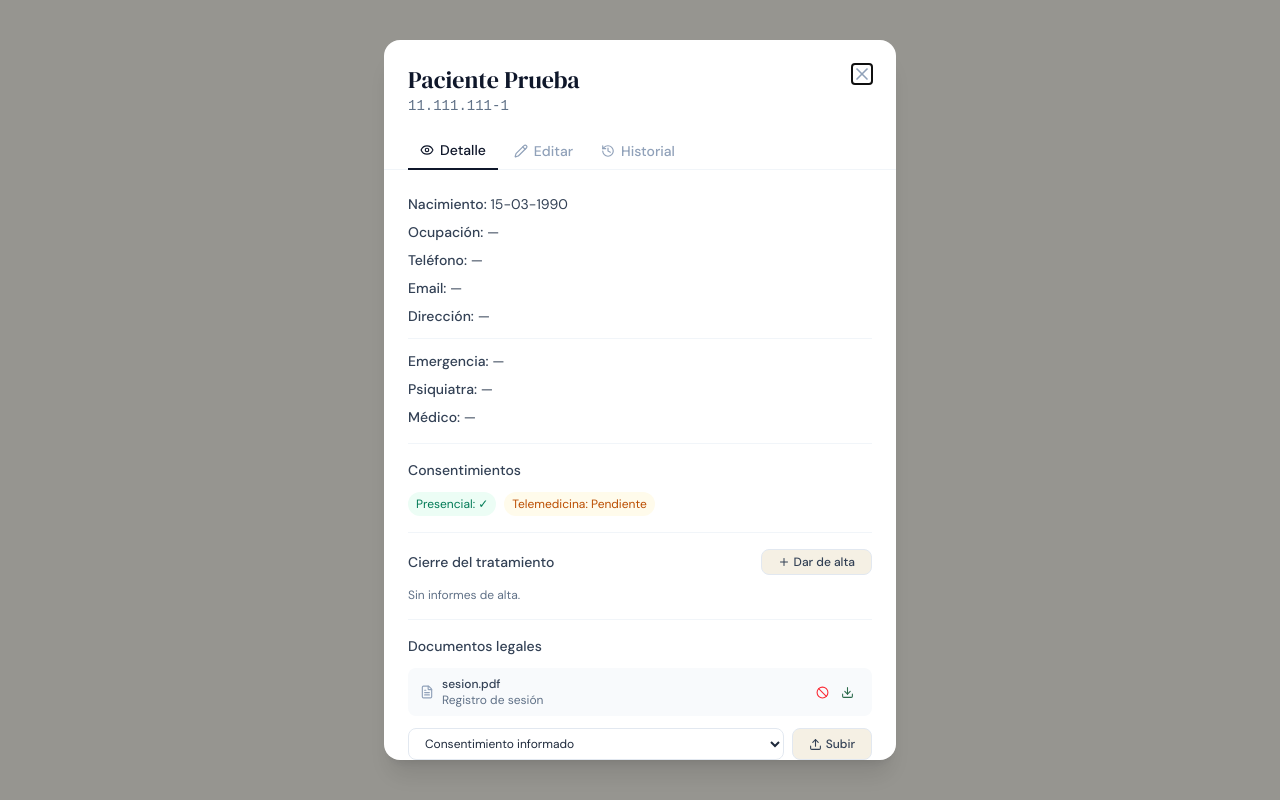
Test: PatientModal — formularios (#295) › tras un fallo parcial de consentimiento conserva los datos y el motivo del formulario
Click the button "Editar" at (543, 150), box [502,132,585,169]
(page scrolled)
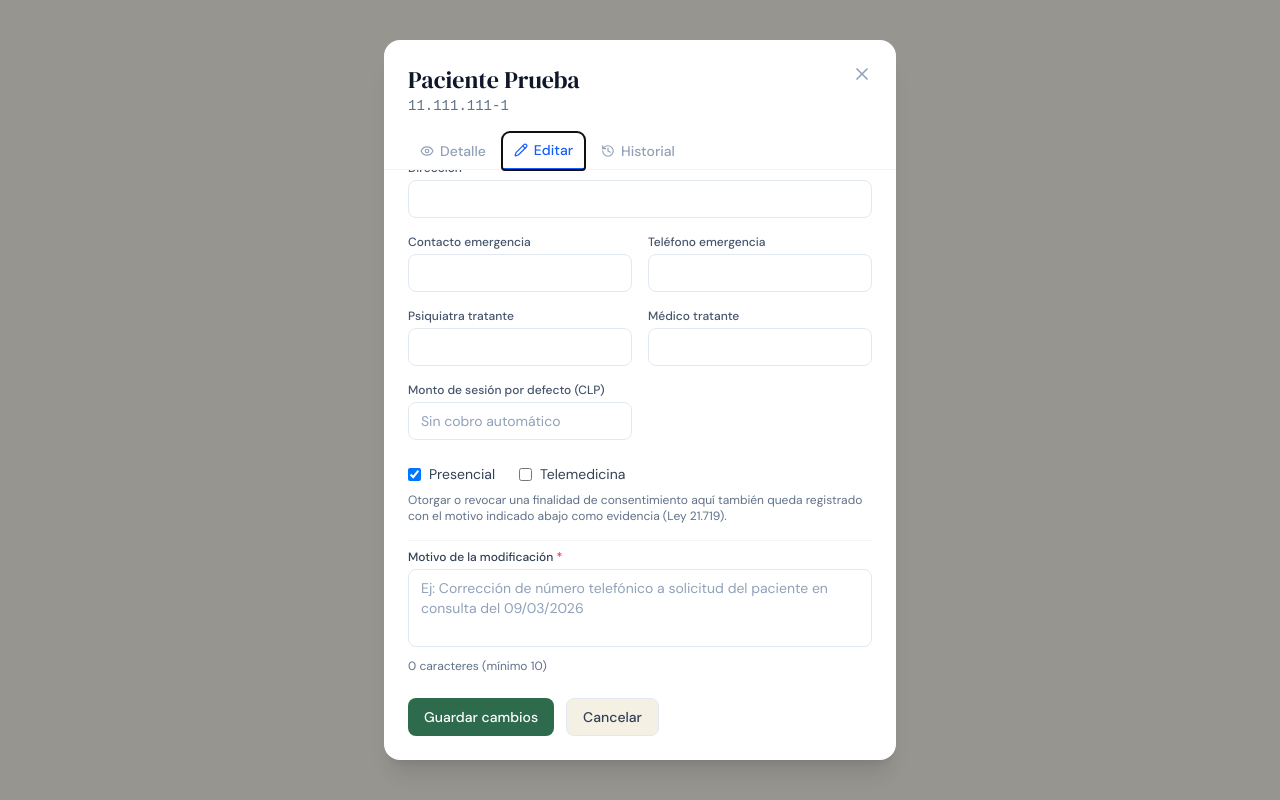
Click the checkbox labelled "Presencial" at (414, 474), box [408,468,421,480]
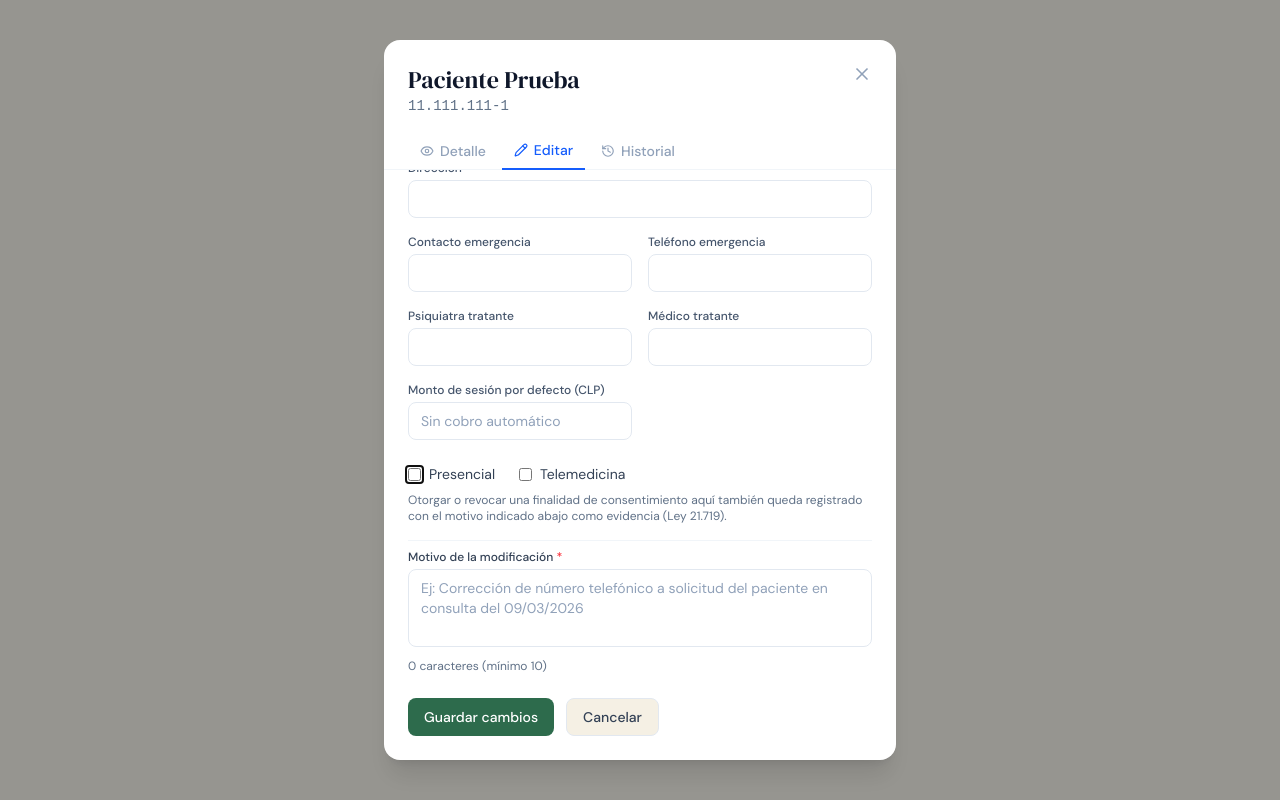
Type "Corrección de datos de contacto" into the text box labelled "Motivo de la modificación *" at (640, 608), box [408,569,872,647]
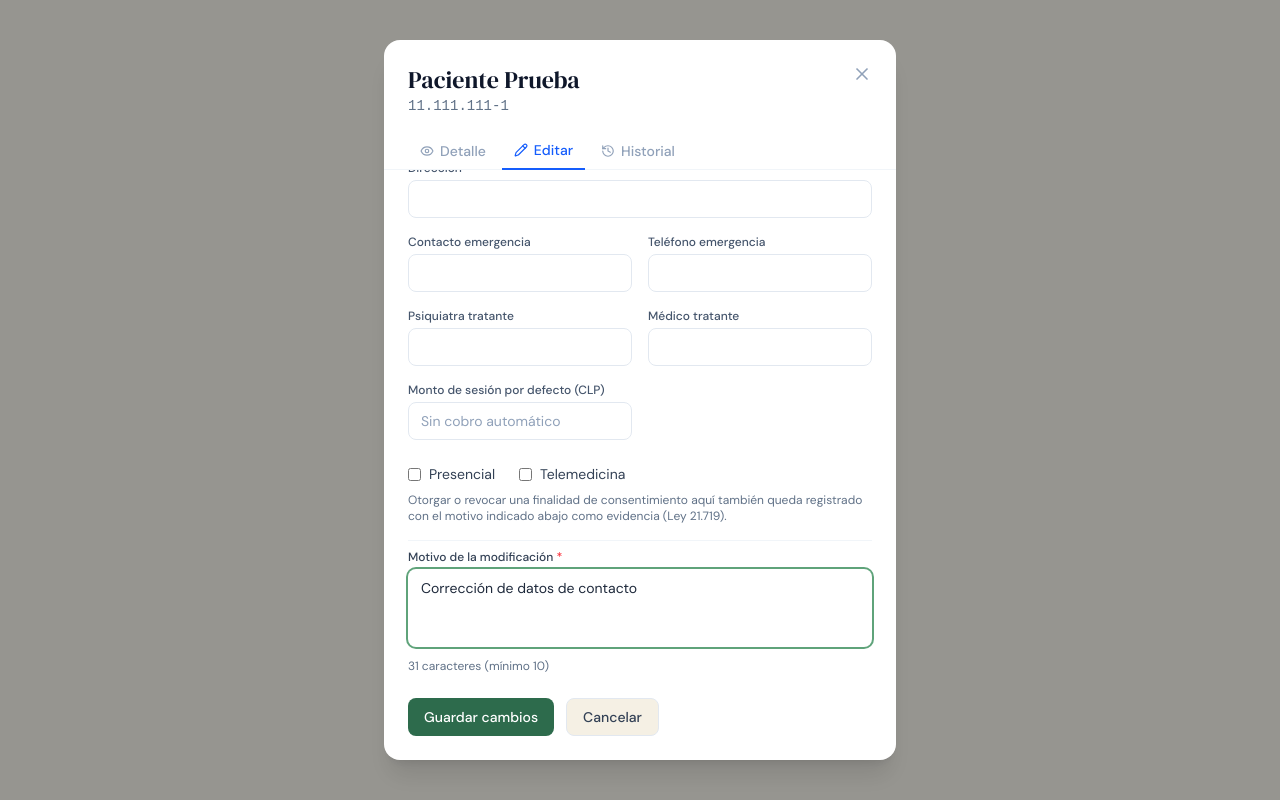
Click the button "Guardar cambios" at (481, 717), box [408,698,554,736]
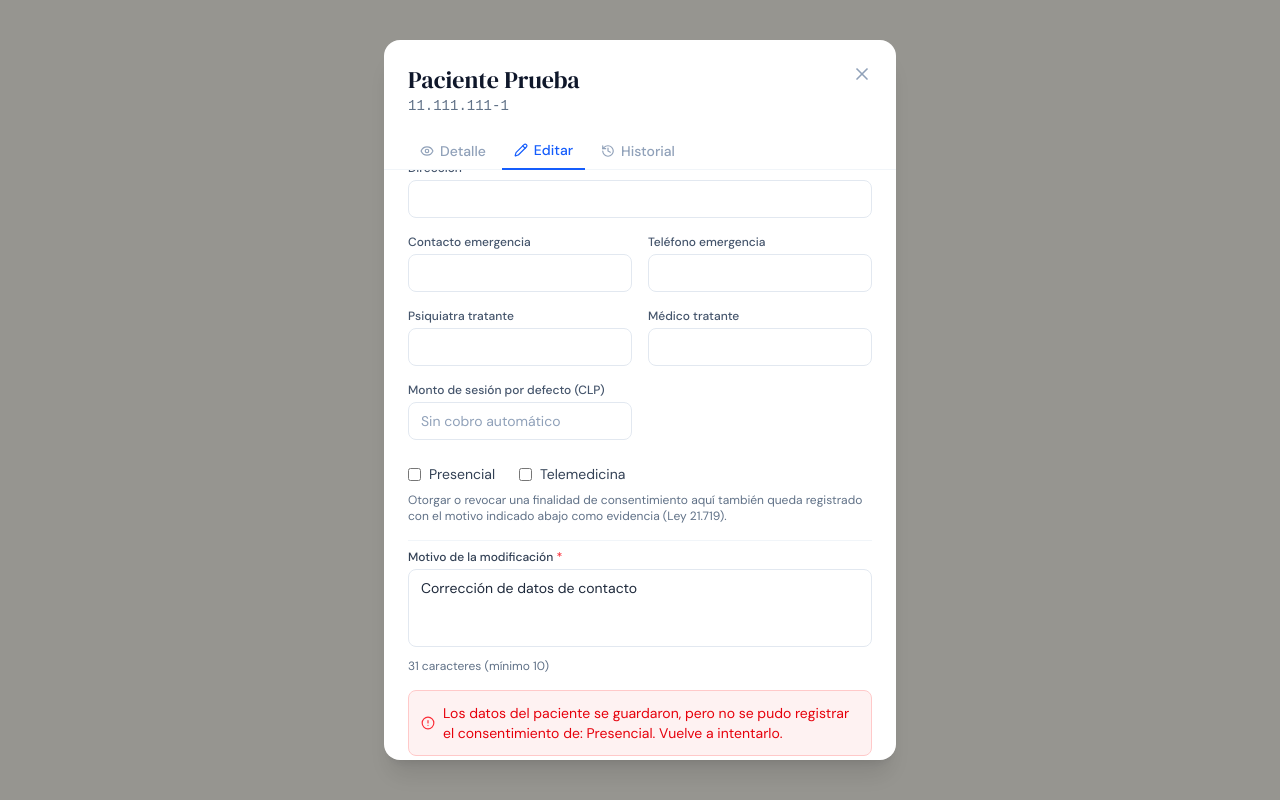
Check: the text "no se pudo registrar el consentimiento" is shown, box [443,704,849,742]
